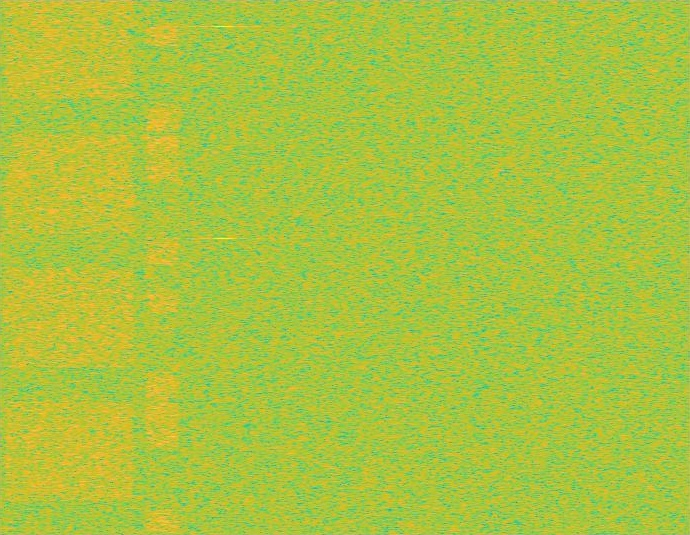5G: (1, 0, 139, 534)
LTE: (145, 0, 180, 534)
Radar: (217, 0, 231, 534)
